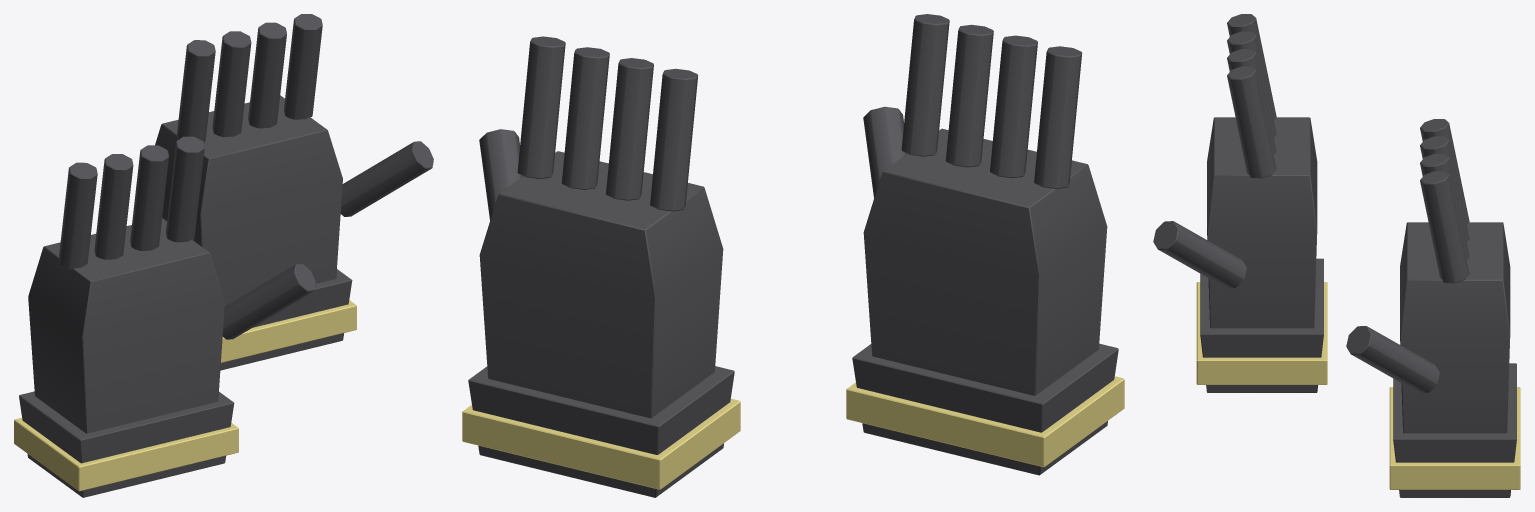
Rendered from IT_rubber_gloves.fbx.
The picture shows the model from 3 angles, left to right: view 1: azimuth 30°, elevation 25°; view 2: azimuth 150°, elevation 25°; view 3: azimuth 270°, elevation 25°; orthographic projection. The views are drawn at different scales.
Parts seen in each view (by area): view 1: IT_rubber_gloves; view 2: IT_rubber_gloves; view 3: IT_rubber_gloves.
Part boxes in pixels (x1,y1,x2,y2): IT_rubber_gloves: (14, 14, 433, 497); IT_rubber_gloves: (462, 14, 1124, 497); IT_rubber_gloves: (1153, 14, 1520, 497).
Size of the model in its own units: 0.7341 by 0.5038 by 0.5328.
